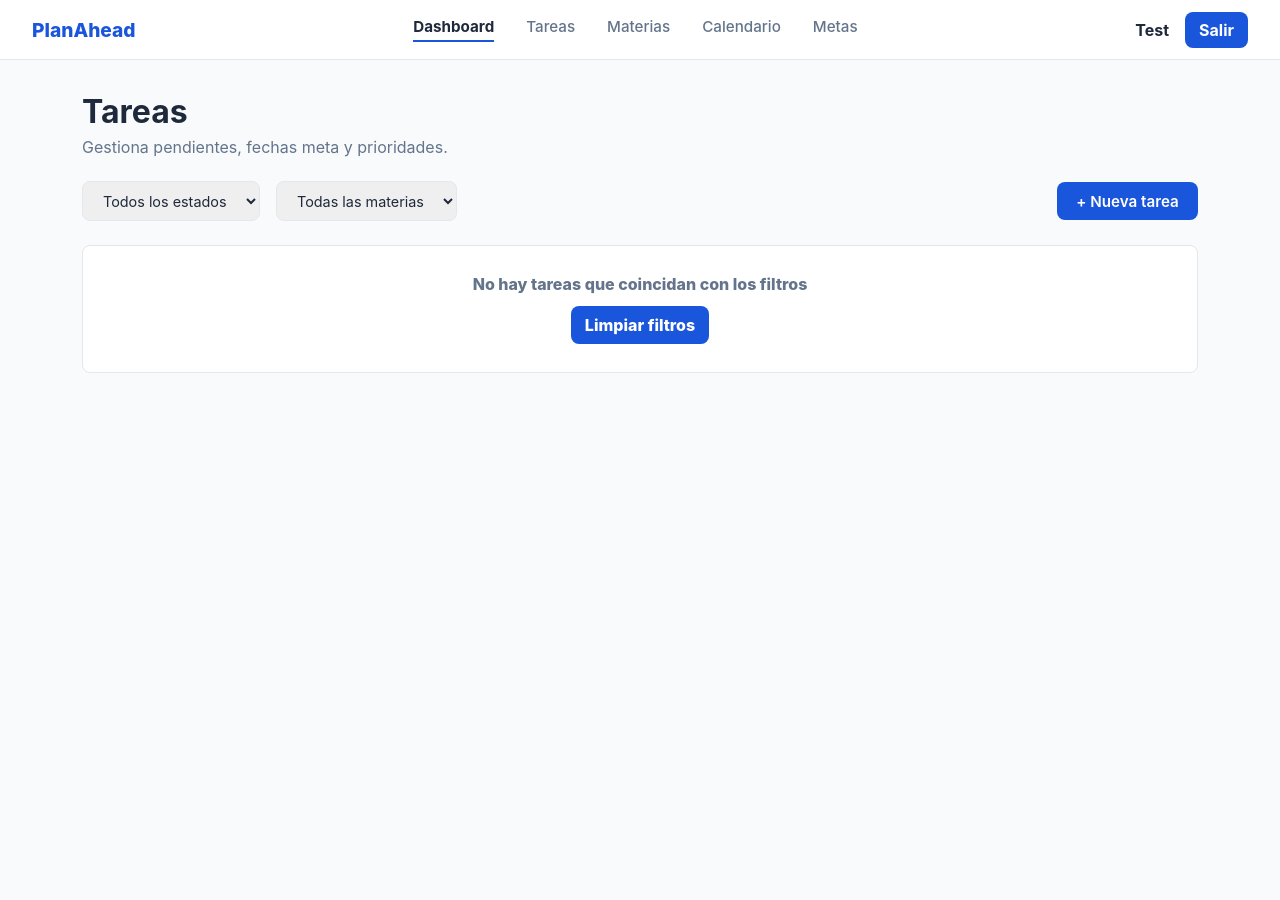
Test: TareasPage › botón guardar deshabilitado si falta el título
Click the button "+ Nueva tarea".
click(1128, 201)  # box left=1057, top=182, right=1198, bottom=220
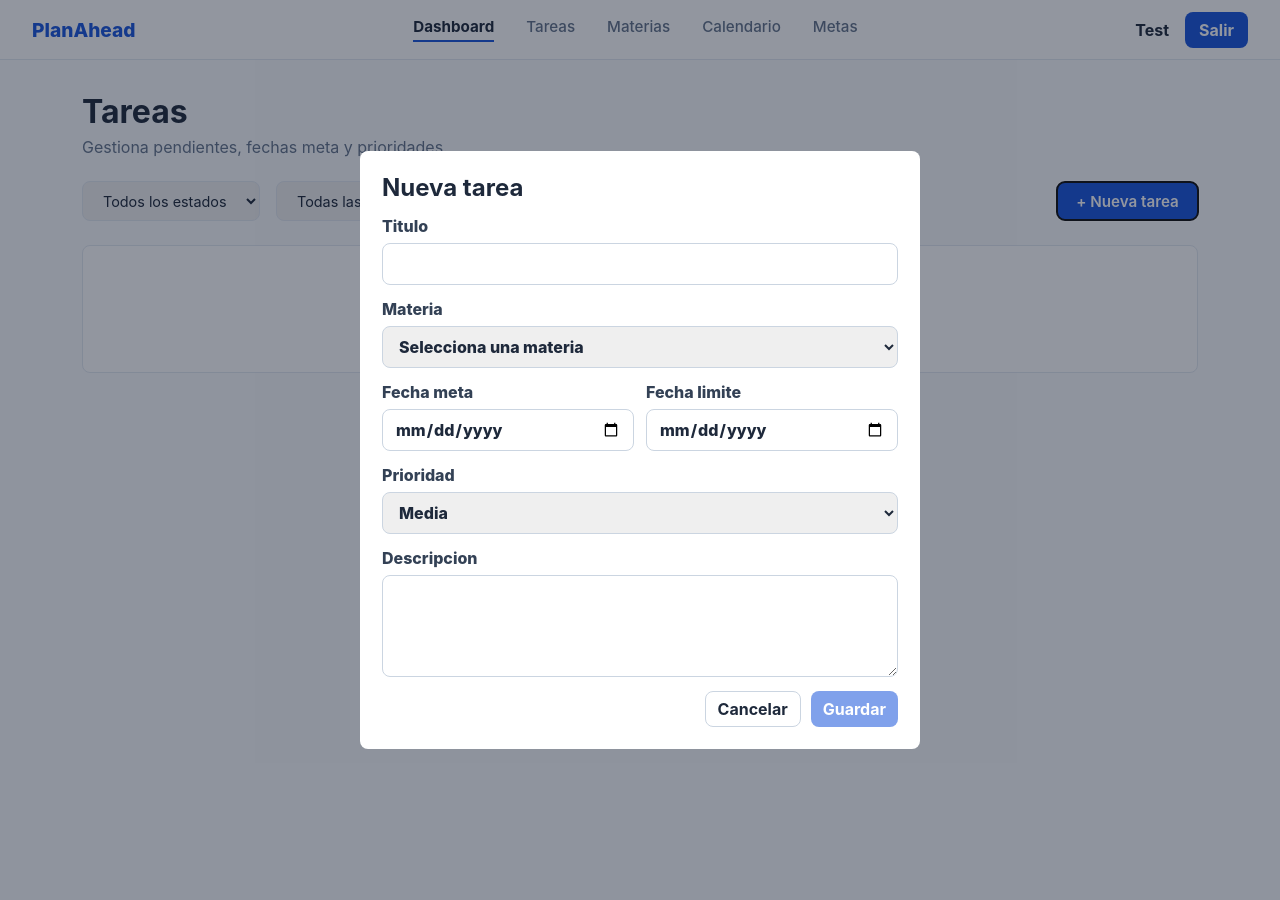
expect the button "Guardar" is disabled: met, box left=811, top=691, right=898, bottom=727
